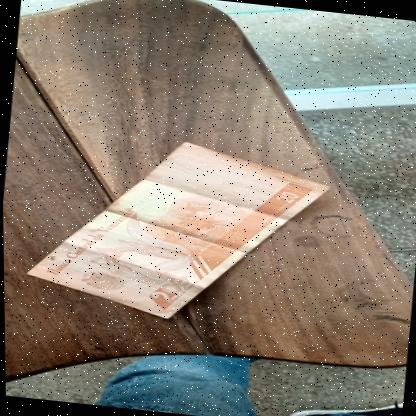twenty-back-vef: (20, 125, 333, 335)
